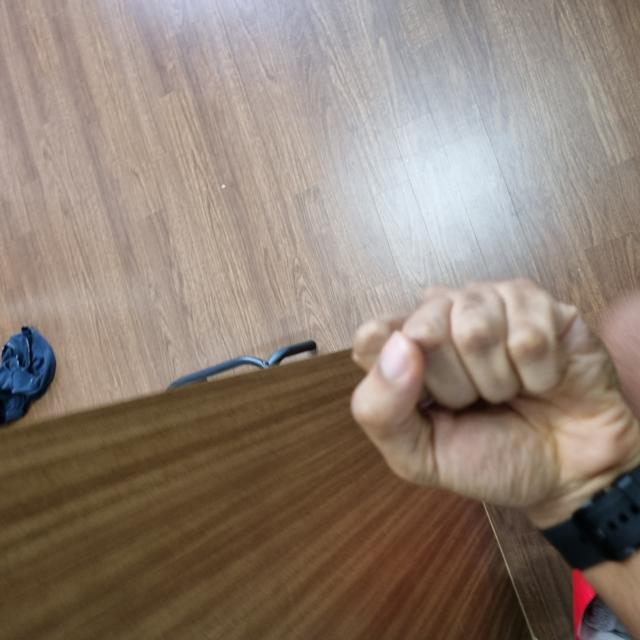Rock: (129, 351, 362, 637)
